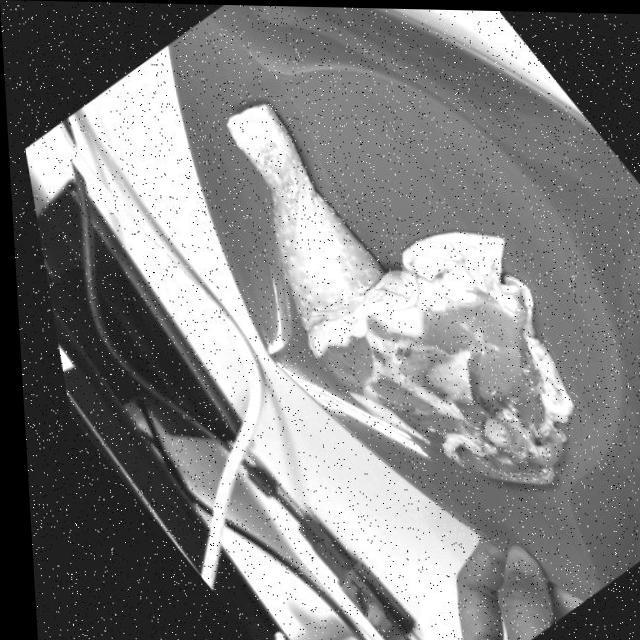quater: (213, 96, 570, 468)
